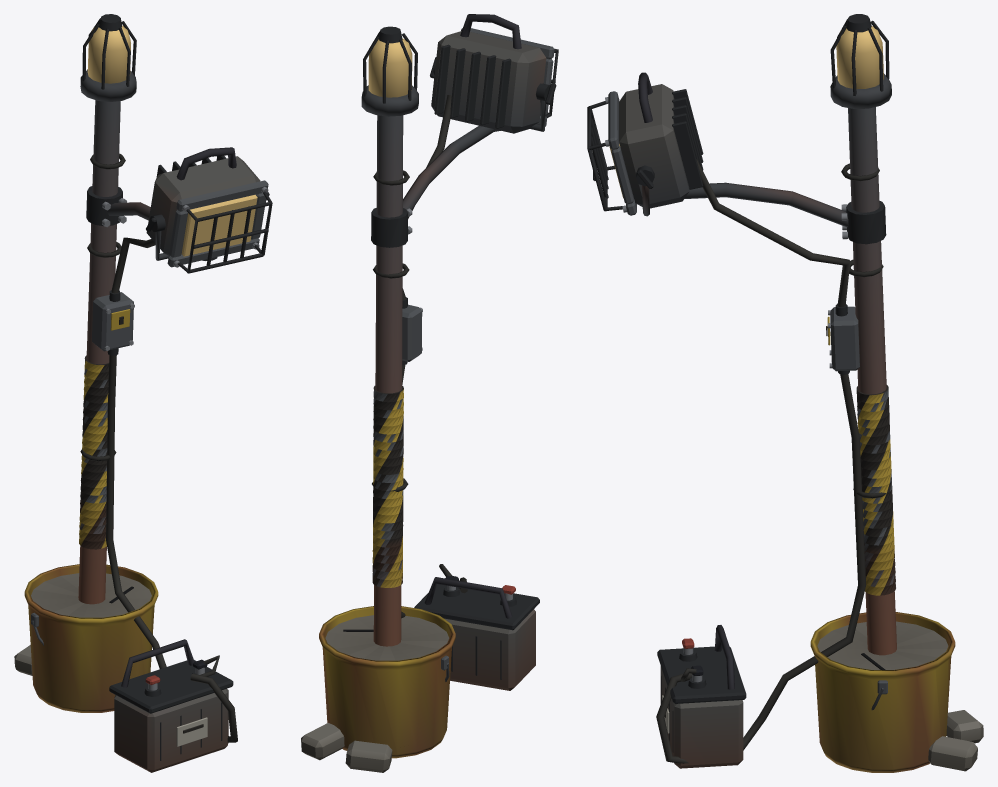
The model's file is emergency_light.glb.
3 views of the same model, side by side, from view 1: azimuth 30°, elevation 25°; view 2: azimuth 150°, elevation 25°; view 3: azimuth 270°, elevation 25° (orthographic). The views are drawn at different scales.
Visible parts, largest first — view 1: emergency_light; view 2: emergency_light; view 3: emergency_light.
Boxes of the visible parts, x1=… form: emergency_light: x1=14, y1=14, x2=272, y2=772; emergency_light: x1=301, y1=14, x2=558, y2=772; emergency_light: x1=587, y1=14, x2=983, y2=772.
Size of the model in its own units: 0.337 by 1.75 by 0.8547.
